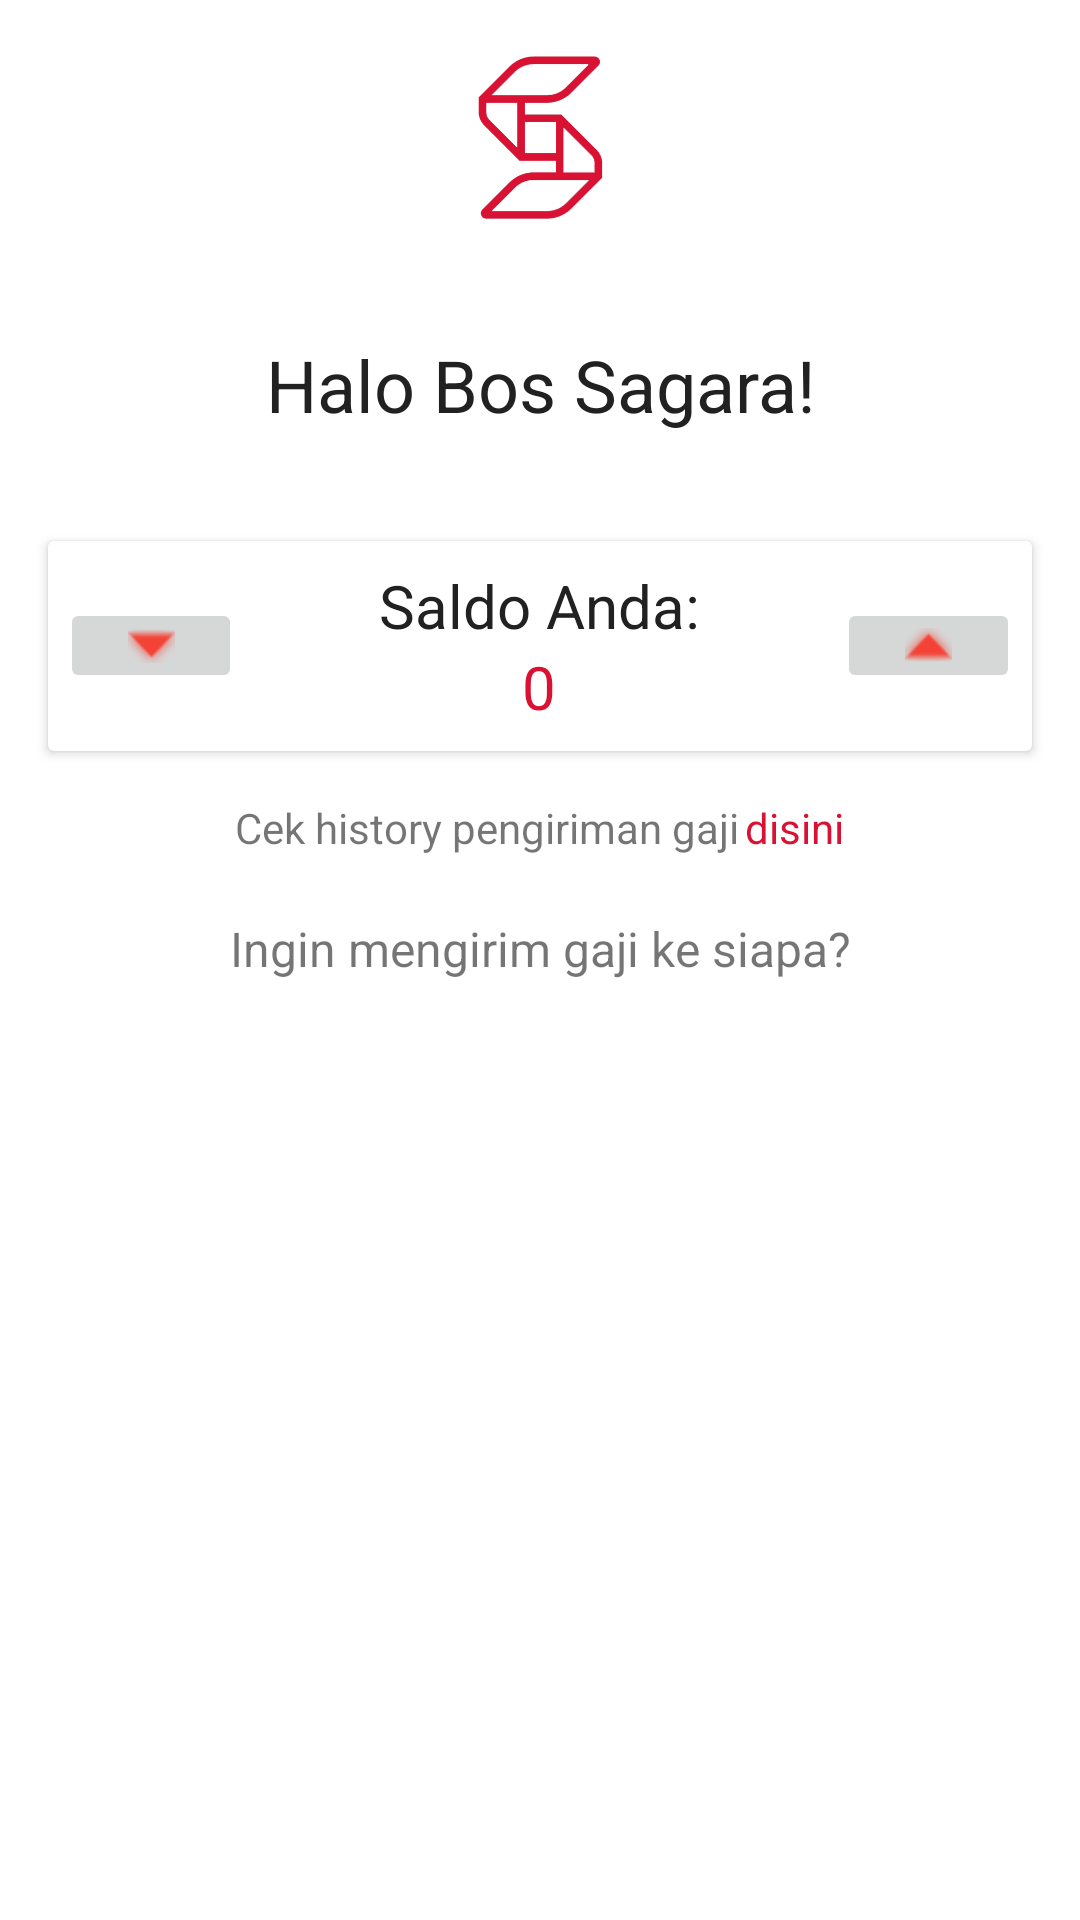

Icon click points for this 1080w x 1920h phone screenshot, format (x=x, y=y):
arrow down float: (x=151, y=645)
arrow up float: (x=928, y=645)
